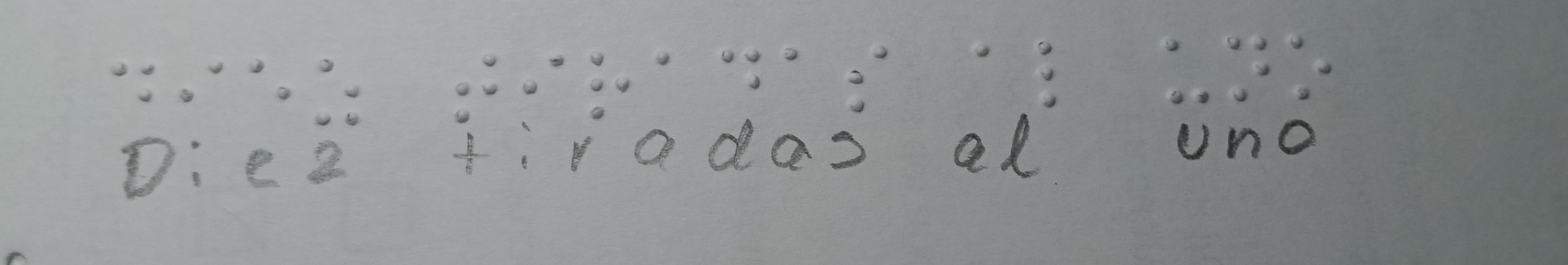a: (949, 31, 1010, 109), (767, 12, 812, 92), (638, 37, 687, 94)
d: (698, 28, 774, 116), (100, 52, 168, 124)
e: (238, 45, 303, 135)
i: (171, 51, 234, 131), (517, 49, 574, 118)
l: (1020, 28, 1075, 119)
n: (1213, 14, 1279, 114)
o: (1276, 8, 1344, 114)
r: (578, 41, 634, 130)
s: (828, 28, 909, 126)
t: (444, 41, 506, 131)
u: (1157, 24, 1221, 118)
z: (307, 45, 375, 140)
